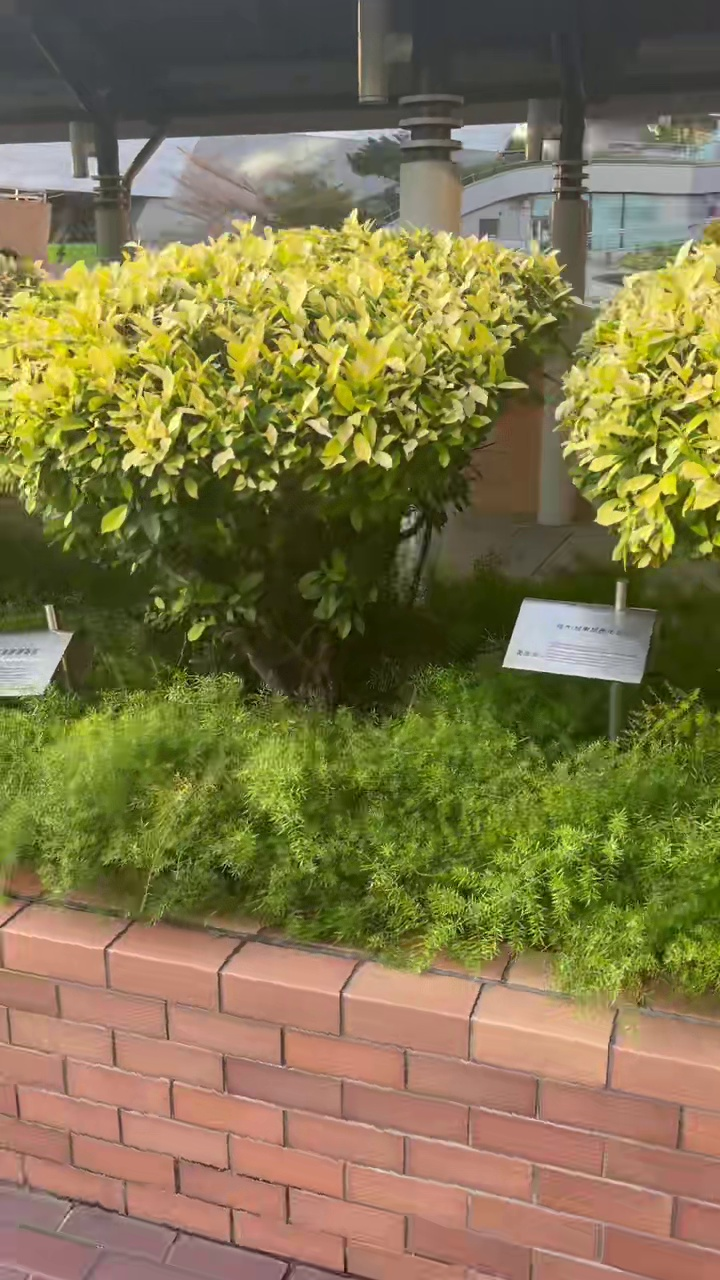Golden-leaves Fig: (0, 215, 568, 700)
